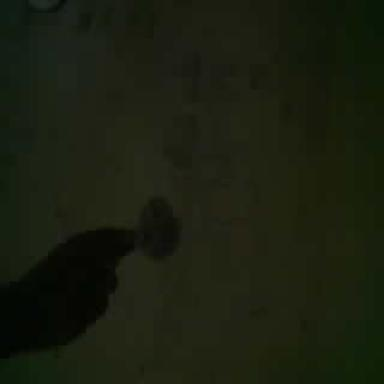paper: (138, 197, 179, 259)
